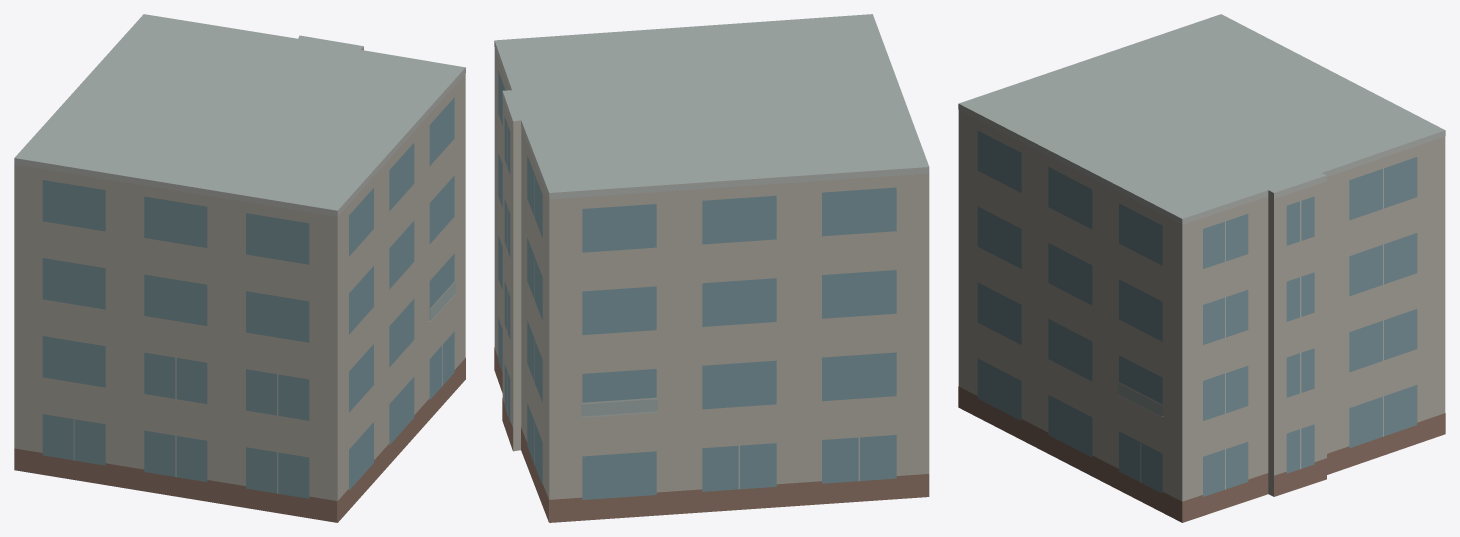
The model's file is survey-upis-33036232.glb.
3 renders of one model, left to right at view 1: azimuth 30°, elevation 25°; view 2: azimuth 150°, elevation 25°; view 3: azimuth 270°, elevation 25°, orthographic. The views are drawn at different scales.
Parts seen in each view (by area): view 1: survey-upis-33036232.tmp; view 2: survey-upis-33036232.tmp; view 3: survey-upis-33036232.tmp.
Part boxes in pixels (x1,y1,x2,y2): survey-upis-33036232.tmp: [14, 14, 465, 522]; survey-upis-33036232.tmp: [494, 14, 929, 522]; survey-upis-33036232.tmp: [958, 14, 1445, 522].
Bounding box in the file's own units: 17.94 × 12.4 × 18.02.
